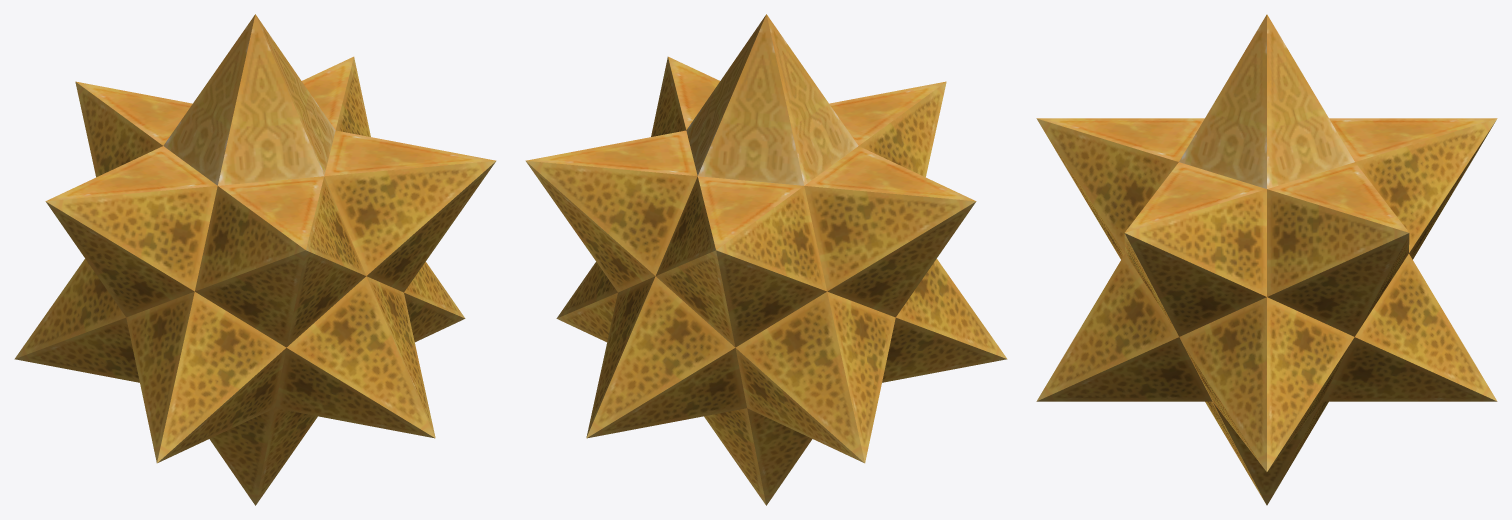
Rendered from Homeworld_Interior_Md_Lamp_Light_MonaStar_01_Vo.fbx.
3 views of the same model, side by side, from view 1: azimuth 30°, elevation 25°; view 2: azimuth 150°, elevation 25°; view 3: azimuth 270°, elevation 25° (orthographic).
Visible parts, largest first — view 1: Level_Ec_Prop_Stars_02_Vo; view 2: Level_Ec_Prop_Stars_02_Vo; view 3: Level_Ec_Prop_Stars_02_Vo.
Boxes of the visible parts, <box> form: Level_Ec_Prop_Stars_02_Vo: <box>14,14,496,505</box>; Level_Ec_Prop_Stars_02_Vo: <box>525,14,1007,505</box>; Level_Ec_Prop_Stars_02_Vo: <box>1036,14,1497,505</box>.
Bounding box in the file's own units: 0.4435 × 0.4964 × 0.4217.
Materials: 1 (1 with a texture image).
